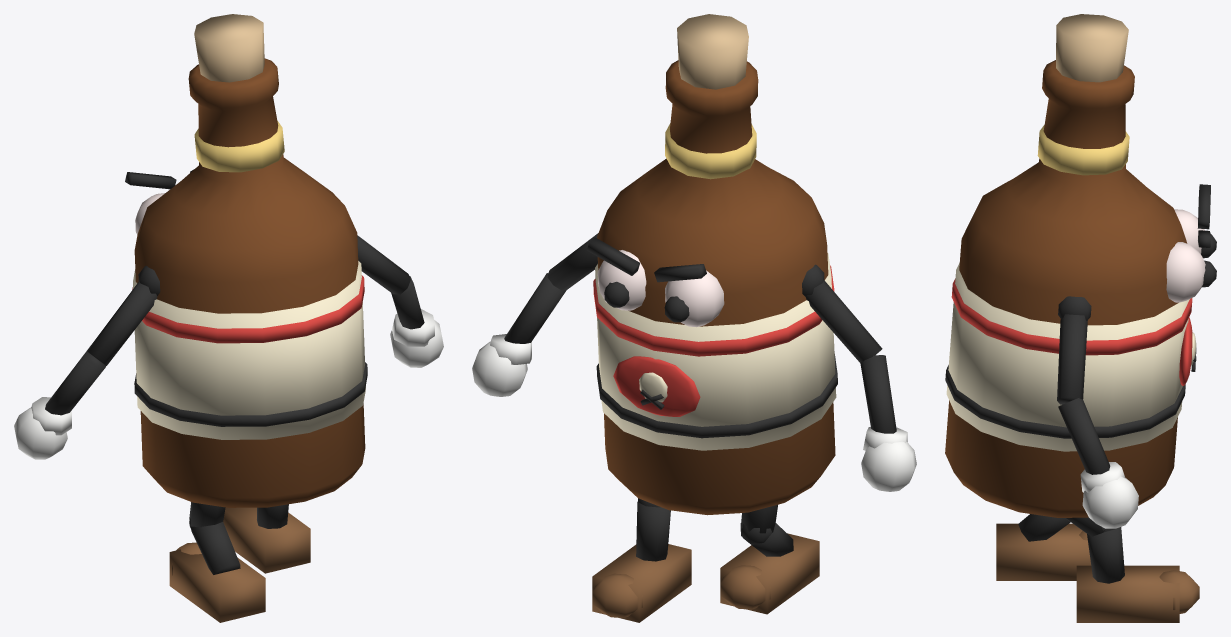
File: alien_spitter.glb
3 renders of one model, left to right at view 1: azimuth 30°, elevation 25°; view 2: azimuth 150°, elevation 25°; view 3: azimuth 270°, elevation 25°, orthographic. The views are drawn at different scales.
Parts seen in each view (by area): view 1: alien_spitter; view 2: alien_spitter; view 3: alien_spitter.
Boxes of the visible parts, x1,y1,x2,y2 form: alien_spitter: (14,14,443,622); alien_spitter: (472,14,916,622); alien_spitter: (945,14,1216,622).
Bounding box in the file's own units: 1.29 × 1.6 × 0.7019.
